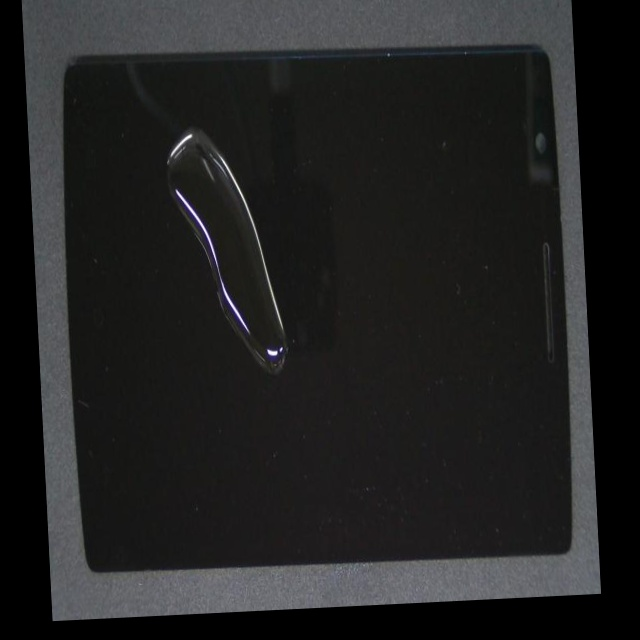oil: (137, 177, 406, 580)
